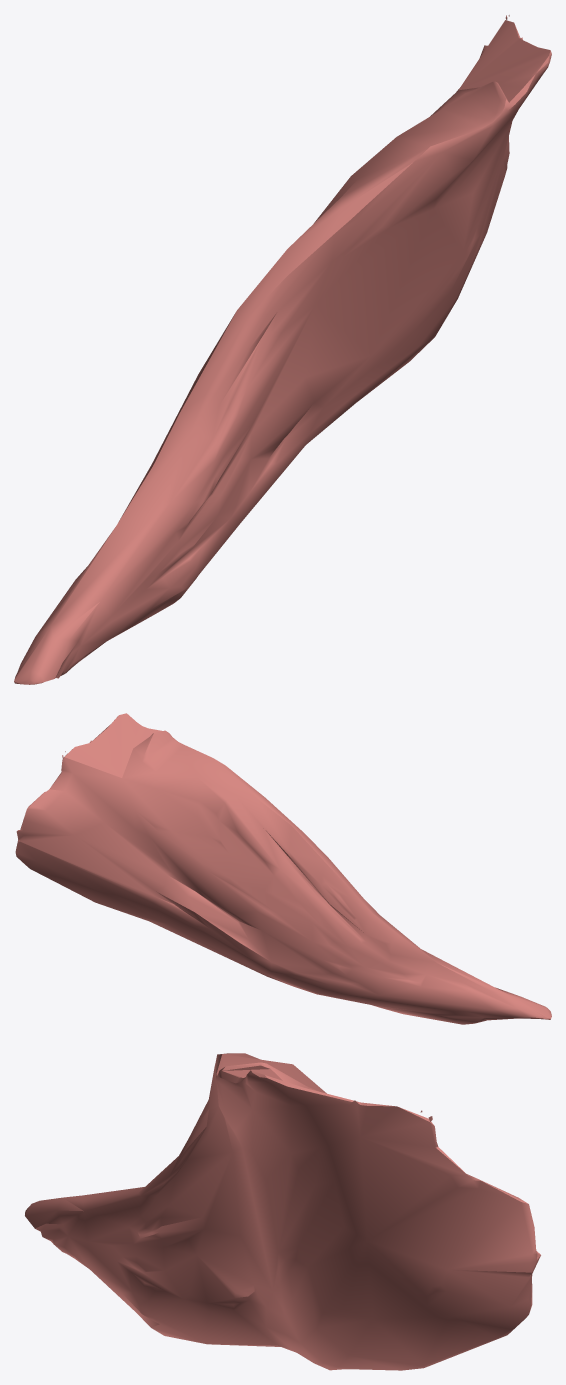
File: fma22340_fj1428.glb
3 renders of one model, top to bottom at view 1: azimuth 30°, elevation 25°; view 2: azimuth 150°, elevation 25°; view 3: azimuth 270°, elevation 25°, orthographic. The views are drawn at different scales.
Visible parts, largest first — view 1: FMA22340_FJ1428; view 2: FMA22340_FJ1428; view 3: FMA22340_FJ1428.
Part boxes in pixels (x1,y1,x2,y2): FMA22340_FJ1428: (14, 15, 551, 684); FMA22340_FJ1428: (15, 713, 551, 1024); FMA22340_FJ1428: (25, 1053, 540, 1370).
Bounding box in the file's own units: 0.1116 × 0.0663 × 0.0599.
